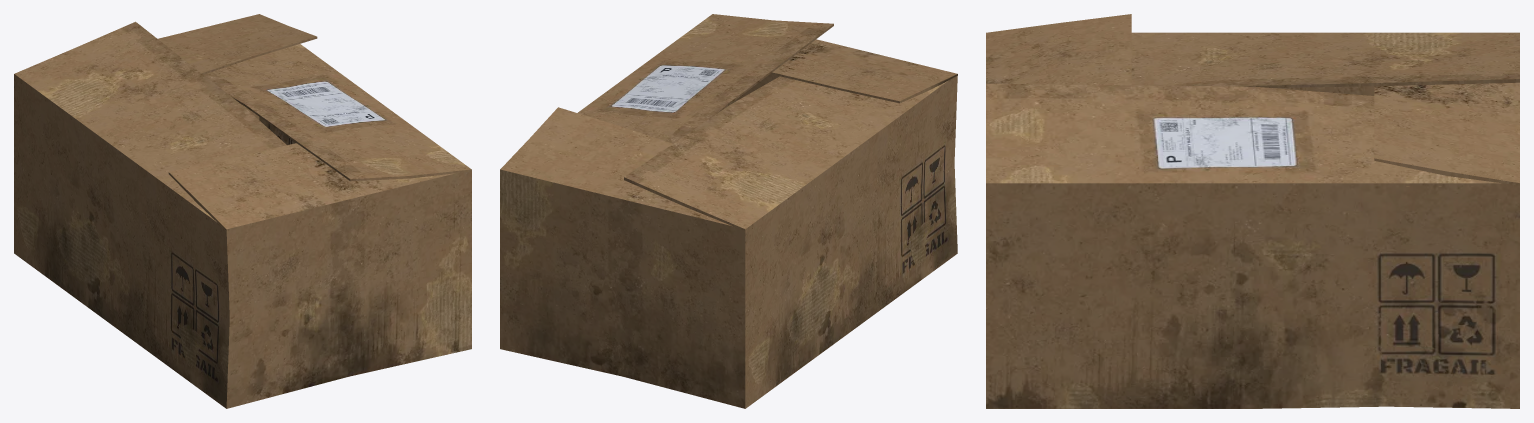
The model's file is box-com.glb.
3 renders of one model, left to right at view 1: azimuth 30°, elevation 25°; view 2: azimuth 150°, elevation 25°; view 3: azimuth 270°, elevation 25°, orthographic. The views are drawn at different scales.
Parts seen in each view (by area): view 1: defaultMaterial; view 2: defaultMaterial; view 3: defaultMaterial.
Boxes of the visible parts, bbox=[...] form: defaultMaterial: bbox=[14, 14, 471, 408]; defaultMaterial: bbox=[500, 14, 957, 408]; defaultMaterial: bbox=[986, 14, 1519, 408].
Bounding box in the file's own units: 1.33 × 1.05 × 2.
Materials: 1 (1 with a texture image).
